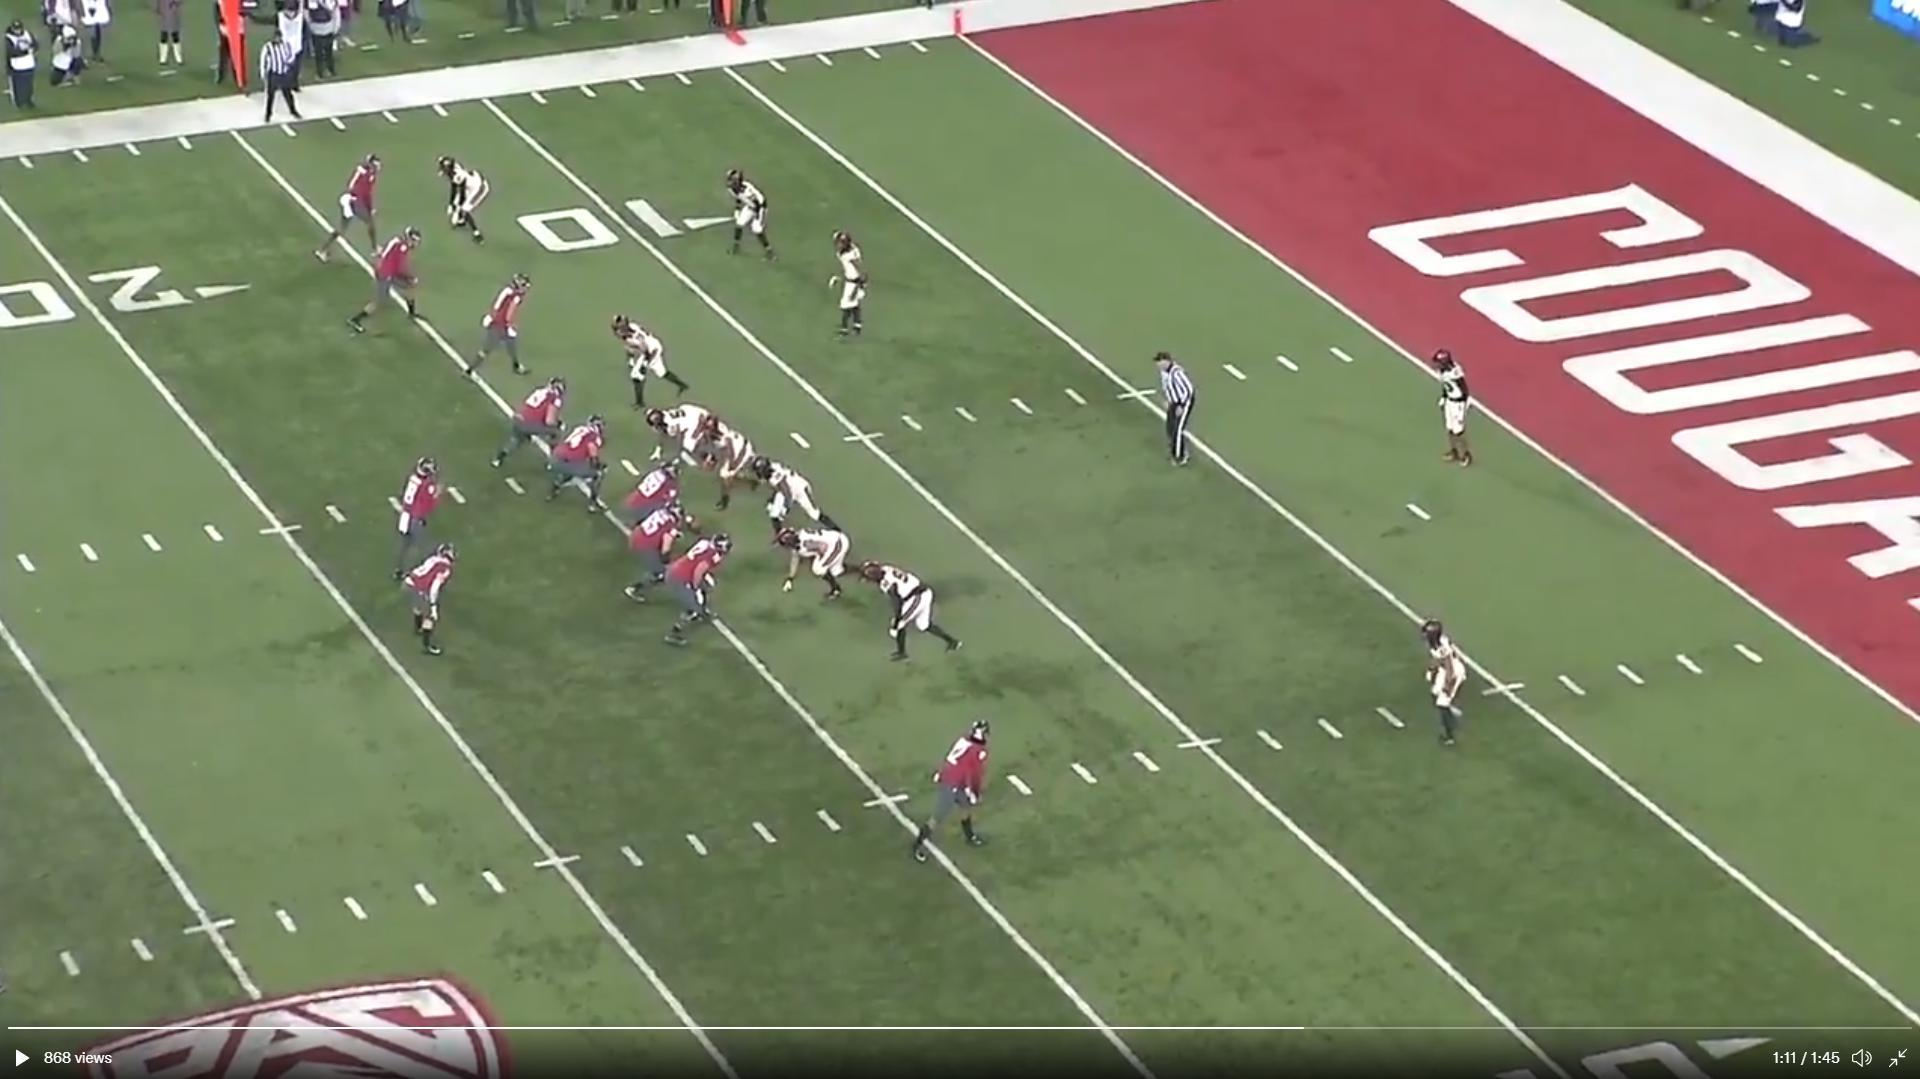defense: (869, 557, 963, 667), (758, 450, 853, 554), (612, 310, 695, 412), (1416, 616, 1476, 753), (1429, 343, 1482, 478), (691, 413, 760, 514), (782, 528, 870, 603), (723, 161, 781, 262), (434, 149, 493, 248), (645, 402, 724, 475), (829, 230, 876, 344)
oline: (662, 529, 732, 648), (493, 376, 576, 472), (624, 496, 691, 603), (545, 414, 611, 518), (621, 460, 683, 545)
qb: (397, 455, 452, 579)
ref: (1150, 350, 1204, 478), (260, 21, 310, 131)
skill: (907, 715, 1006, 868), (351, 226, 433, 340), (462, 269, 538, 388), (314, 146, 386, 270), (404, 541, 462, 665)
